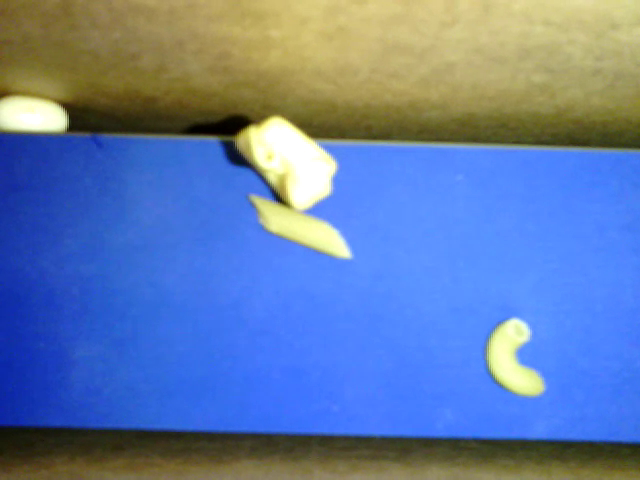elbow: (486, 315, 547, 397)
penne: (248, 195, 352, 259)
tortellini: (233, 114, 338, 211)
